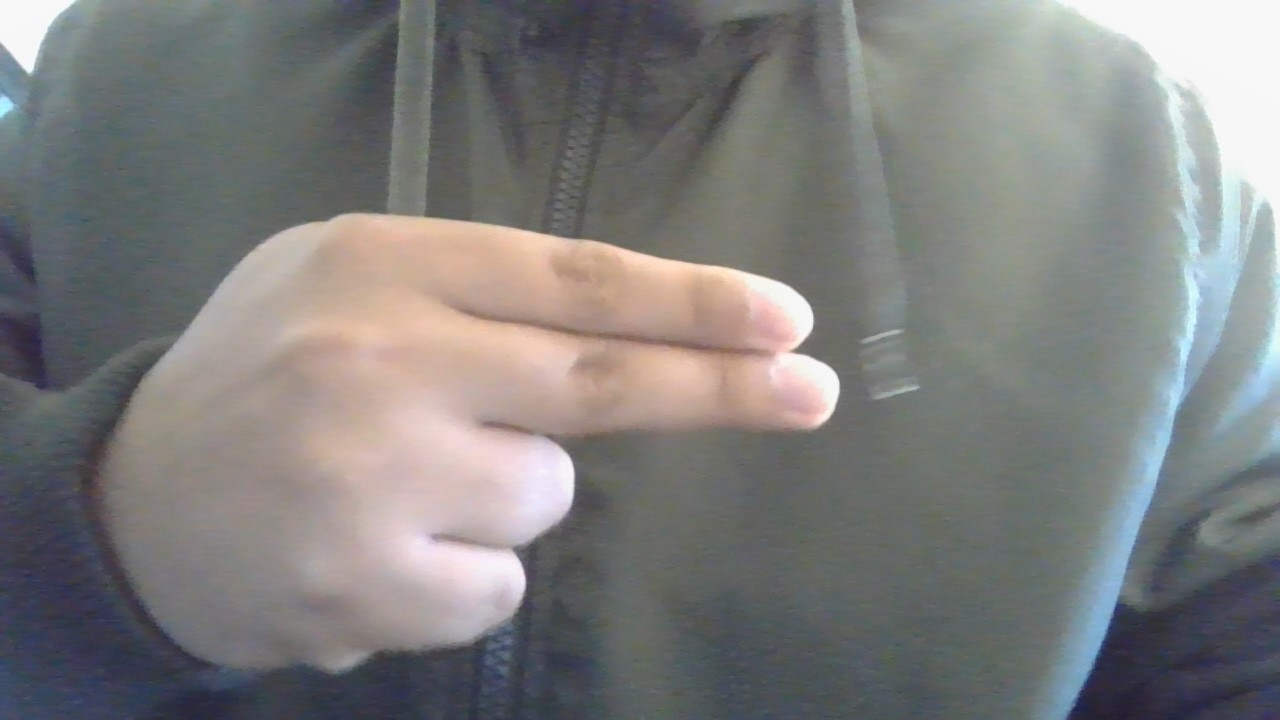h: (59, 191, 858, 704)
